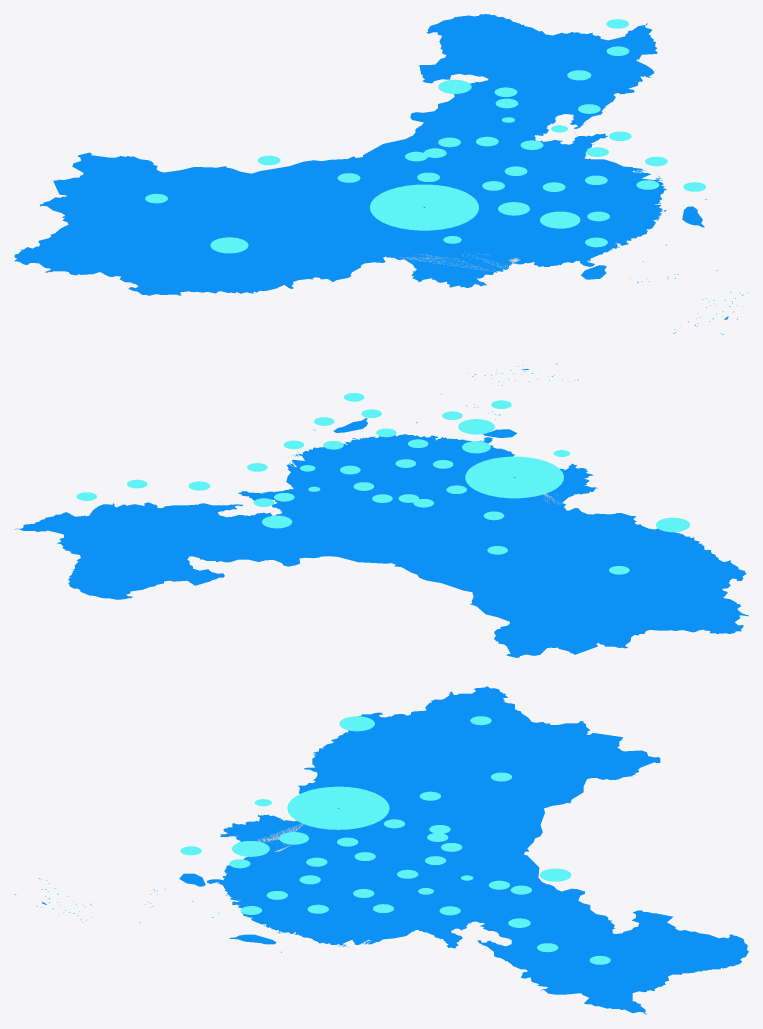
Rendered from china.glb.
3 renders of one model, top to bottom at view 1: azimuth 30°, elevation 25°; view 2: azimuth 150°, elevation 25°; view 3: azimuth 270°, elevation 25°, orthographic. The views are drawn at different scales.
Parts seen in each view (by area): view 1: Curve.036, 圆环.020, Curve.035, 圆环.022; view 2: Curve.036, Curve.035, 圆环.020; view 3: Curve.036, 圆环.020, Curve.035.
Boxes of the visible parts, x1=… form: Curve.036: x1=14, y1=14, x2=748, y2=334; 圆环.020: x1=370, y1=184, x2=478, y2=230; Curve.035: x1=222, y1=41, x2=659, y2=271; 圆环.022: x1=540, y1=211, x2=580, y2=228; Curve.036: x1=14, y1=363, x2=748, y2=657; Curve.035: x1=67, y1=435, x2=607, y2=581; 圆环.020: x1=465, y1=456, x2=563, y2=498; Curve.036: x1=14, y1=686, x2=748, y2=1014; 圆环.020: x1=287, y1=786, x2=389, y2=829; Curve.035: x1=203, y1=777, x2=639, y2=990.
Size of the model in its own units: 159 by 6.57 by 150.
